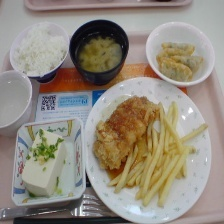rice: (9, 19, 68, 77)
